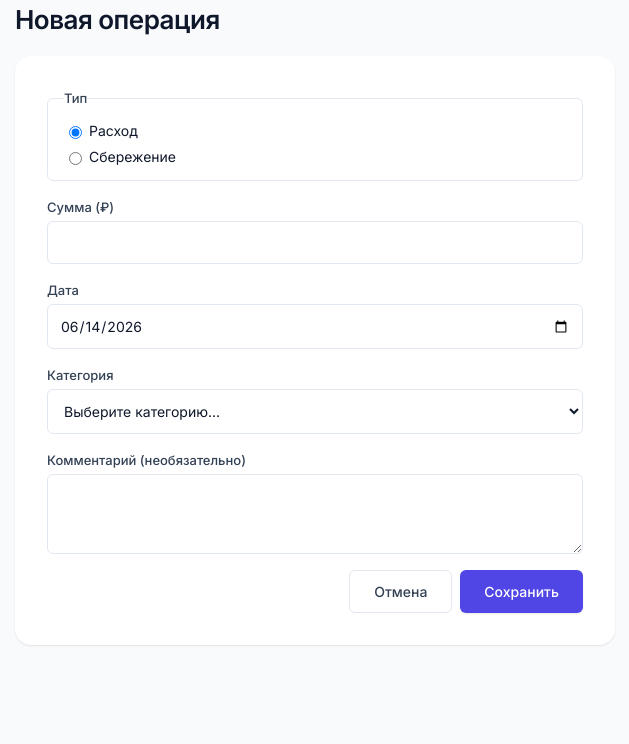
Test: TransactionFormPage (create) › 422 от сервера показывает ошибку у поля amount
Type "0.5" into the number field labelled "Сумма (₽)" at (315, 242), box [47,221,583,264]
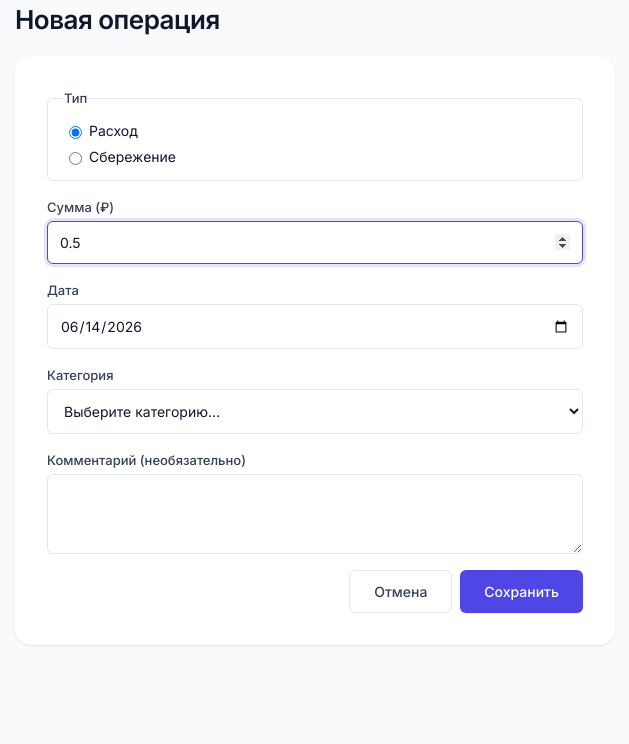
Select "Продукты" in the dropdown labelled "Категория" at (315, 412), box [47,389,583,434]
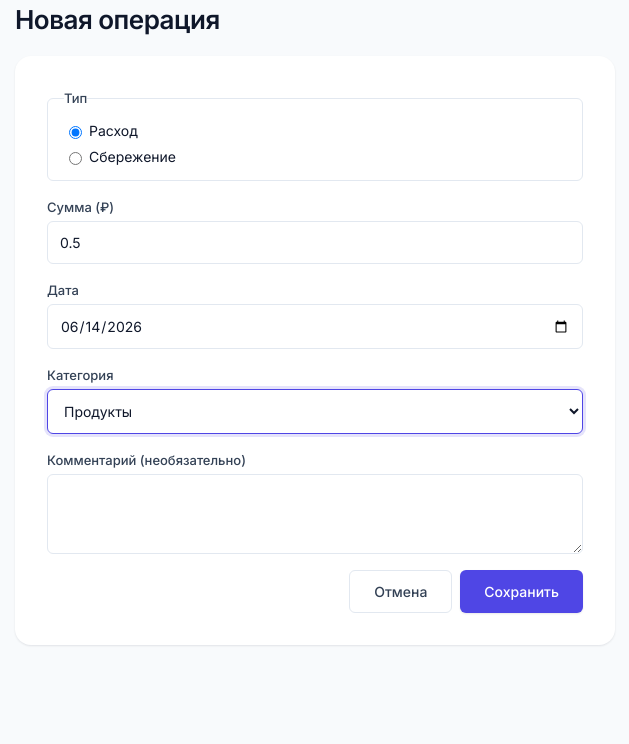
Click the button "Сохранить" at (522, 592), box [460,570,583,613]
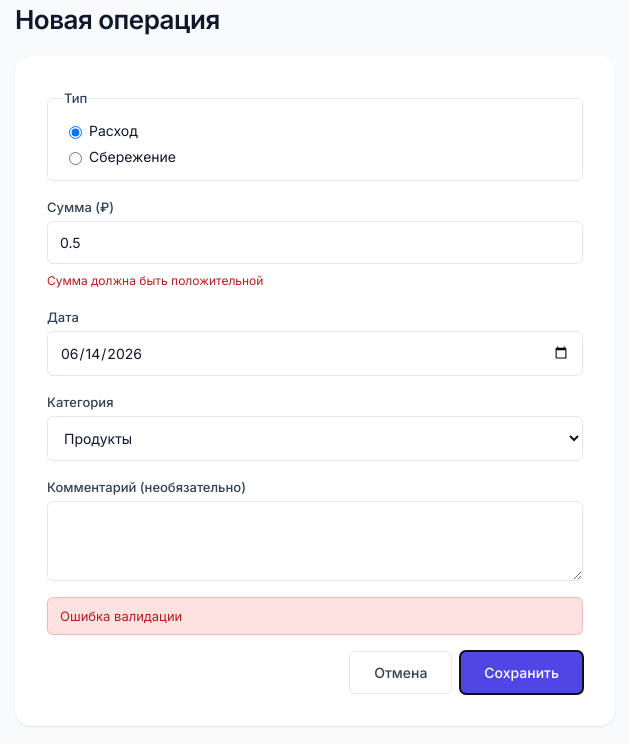
Now the text "Сумма должна быть положительной" is shown, box [47,273,263,288]
